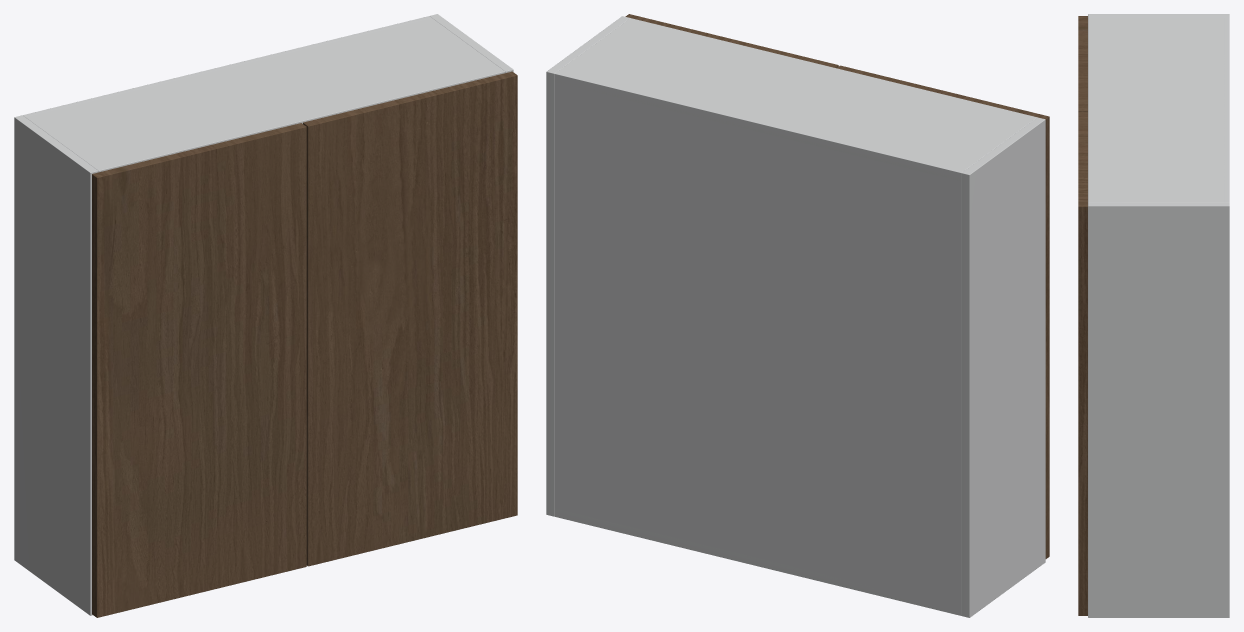
Rendered from oppein-ply-mso-w3636.glb.
3 renders of one model, left to right at view 1: azimuth 30°, elevation 25°; view 2: azimuth 150°, elevation 25°; view 3: azimuth 270°, elevation 25°, orthographic. The views are drawn at different scales.
Visible parts, largest first — view 1: Door, Door.001, Cabinet side, Cabinet top, Cabinet back, Cabinet side.001; view 2: Cabinet back, Cabinet side, Cabinet top, Cabinet side.001, Door, Cabinet bottom, Door.001; view 3: Cabinet side.001, Cabinet top, Door.001, Cabinet back, Door, Cabinet side.
Boxes of the visible parts, x1=… form: Door: x1=92, y1=123, x2=306, y2=617; Door.001: x1=303, y1=71, x2=517, y2=566; Cabinet side: x1=14, y1=115, x2=98, y2=615; Cabinet top: x1=23, y1=18, x2=505, y2=172; Cabinet back: x1=23, y1=16, x2=431, y2=117; Cabinet side.001: x1=430, y1=14, x2=513, y2=72; Cabinet back: x1=554, y1=71, x2=963, y2=615; Cabinet side: x1=961, y1=117, x2=1045, y2=617; Cabinet top: x1=554, y1=18, x2=1036, y2=180; Cabinet side.001: x1=546, y1=16, x2=630, y2=516; Door: x1=836, y1=65, x2=1049, y2=558; Cabinet bottom: x1=554, y1=508, x2=960, y2=615; Door.001: x1=625, y1=14, x2=838, y2=67; Cabinet side.001: x1=1088, y1=202, x2=1229, y2=617; Cabinet top: x1=1088, y1=17, x2=1229, y2=202; Door.001: x1=1078, y1=111, x2=1087, y2=615; Cabinet back: x1=1224, y1=17, x2=1229, y2=202; Door: x1=1078, y1=16, x2=1087, y2=111; Cabinet side: x1=1088, y1=14, x2=1229, y2=17.
Bounding box in the file's own units: 0.9144 × 0.9144 × 0.3048.
2 materials, 1 textured.
